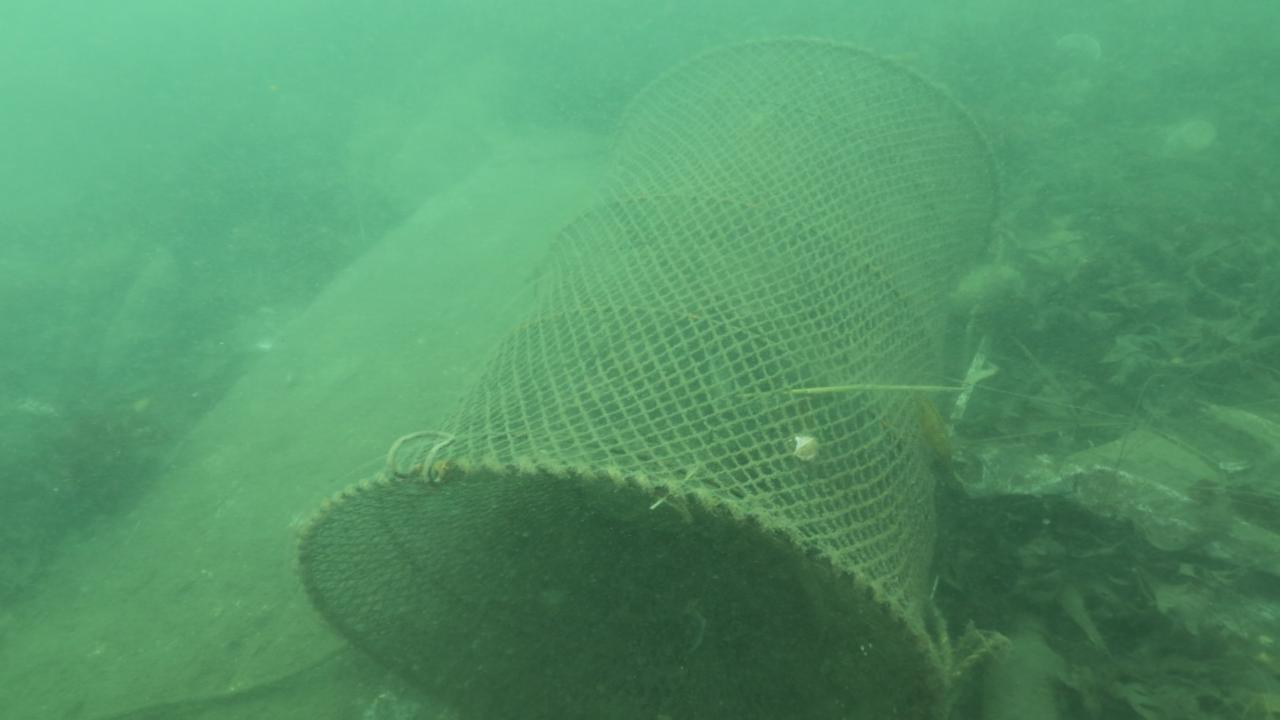spring fish trap: (288, 37, 1005, 720)
